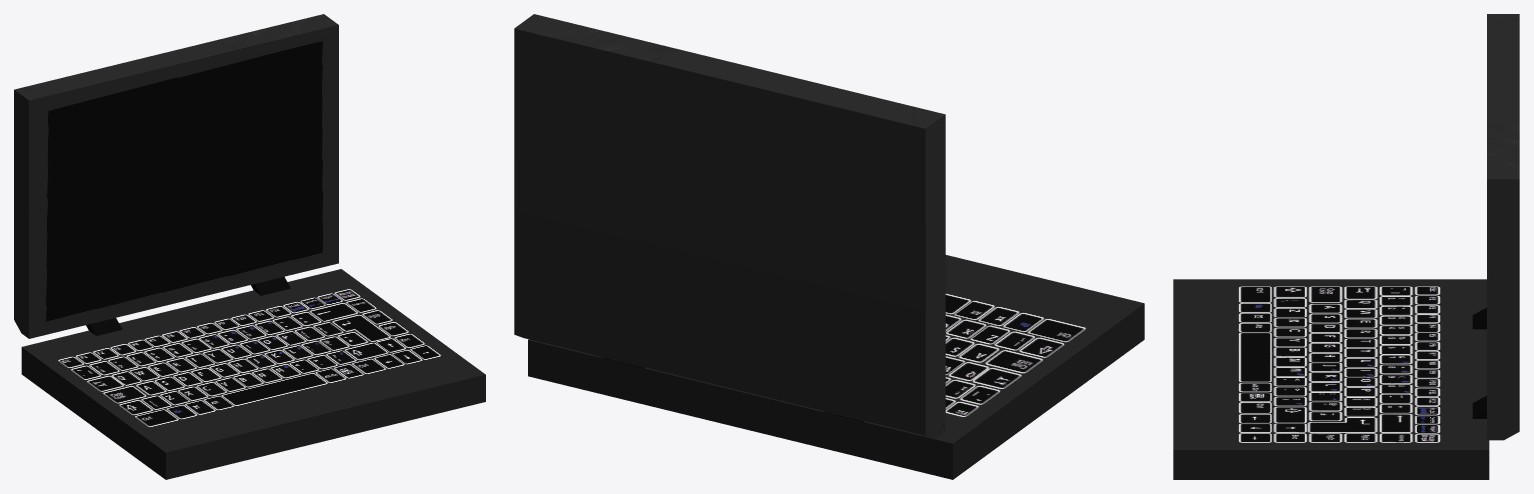
File: Laptop.fbx
The picture shows the model from 3 angles, left to right: view 1: azimuth 30°, elevation 25°; view 2: azimuth 150°, elevation 25°; view 3: azimuth 270°, elevation 25°; orthographic projection. The views are drawn at different scales.
Visible parts, largest first — view 1: Laptop; view 2: Laptop; view 3: Laptop.
Part boxes in pixels (x1,y1,x2,y2): Laptop: (14,14,485,479); Laptop: (514,14,1144,479); Laptop: (1173,14,1519,479).
Bounding box in the file's own units: 35.99 × 29.34 × 30.85.
1 material, 1 textured.
